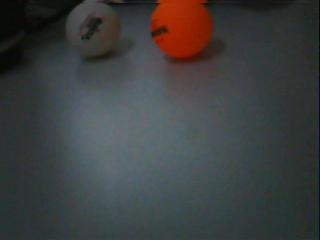oball: (149, 4, 211, 60)
